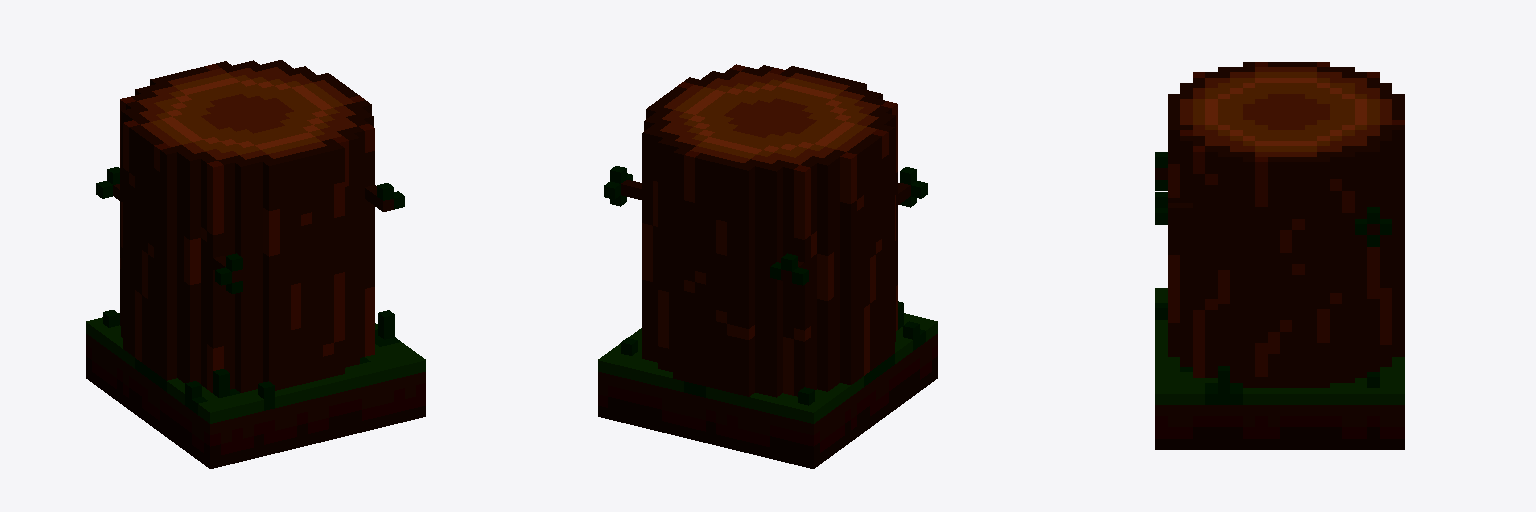
File: wood.obj
3 renders of one model, left to right at view 1: azimuth 30°, elevation 25°; view 2: azimuth 150°, elevation 25°; view 3: azimuth 270°, elevation 25°, orthographic.
Parts seen in each view (by area): view 1: wood; view 2: wood; view 3: wood.
Part boxes in pixels (bbox=[...]): wood: bbox=[86, 60, 425, 468]; wood: bbox=[598, 64, 937, 468]; wood: bbox=[1155, 62, 1404, 449].
Size of the model in its own units: 1 by 1.25 by 1.